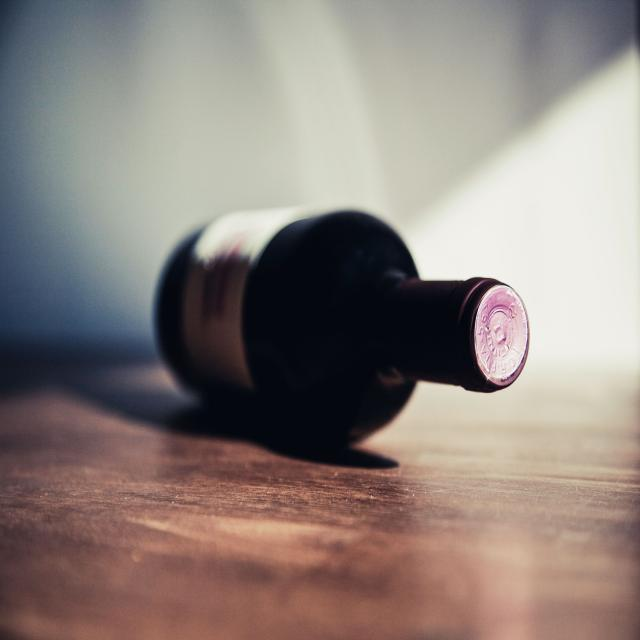Bottle: (157, 208, 528, 445)
